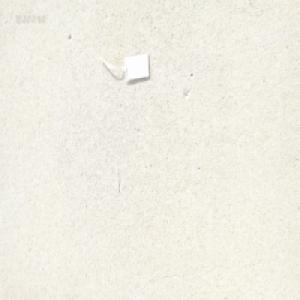LuggageTag: (99, 50, 152, 83)
